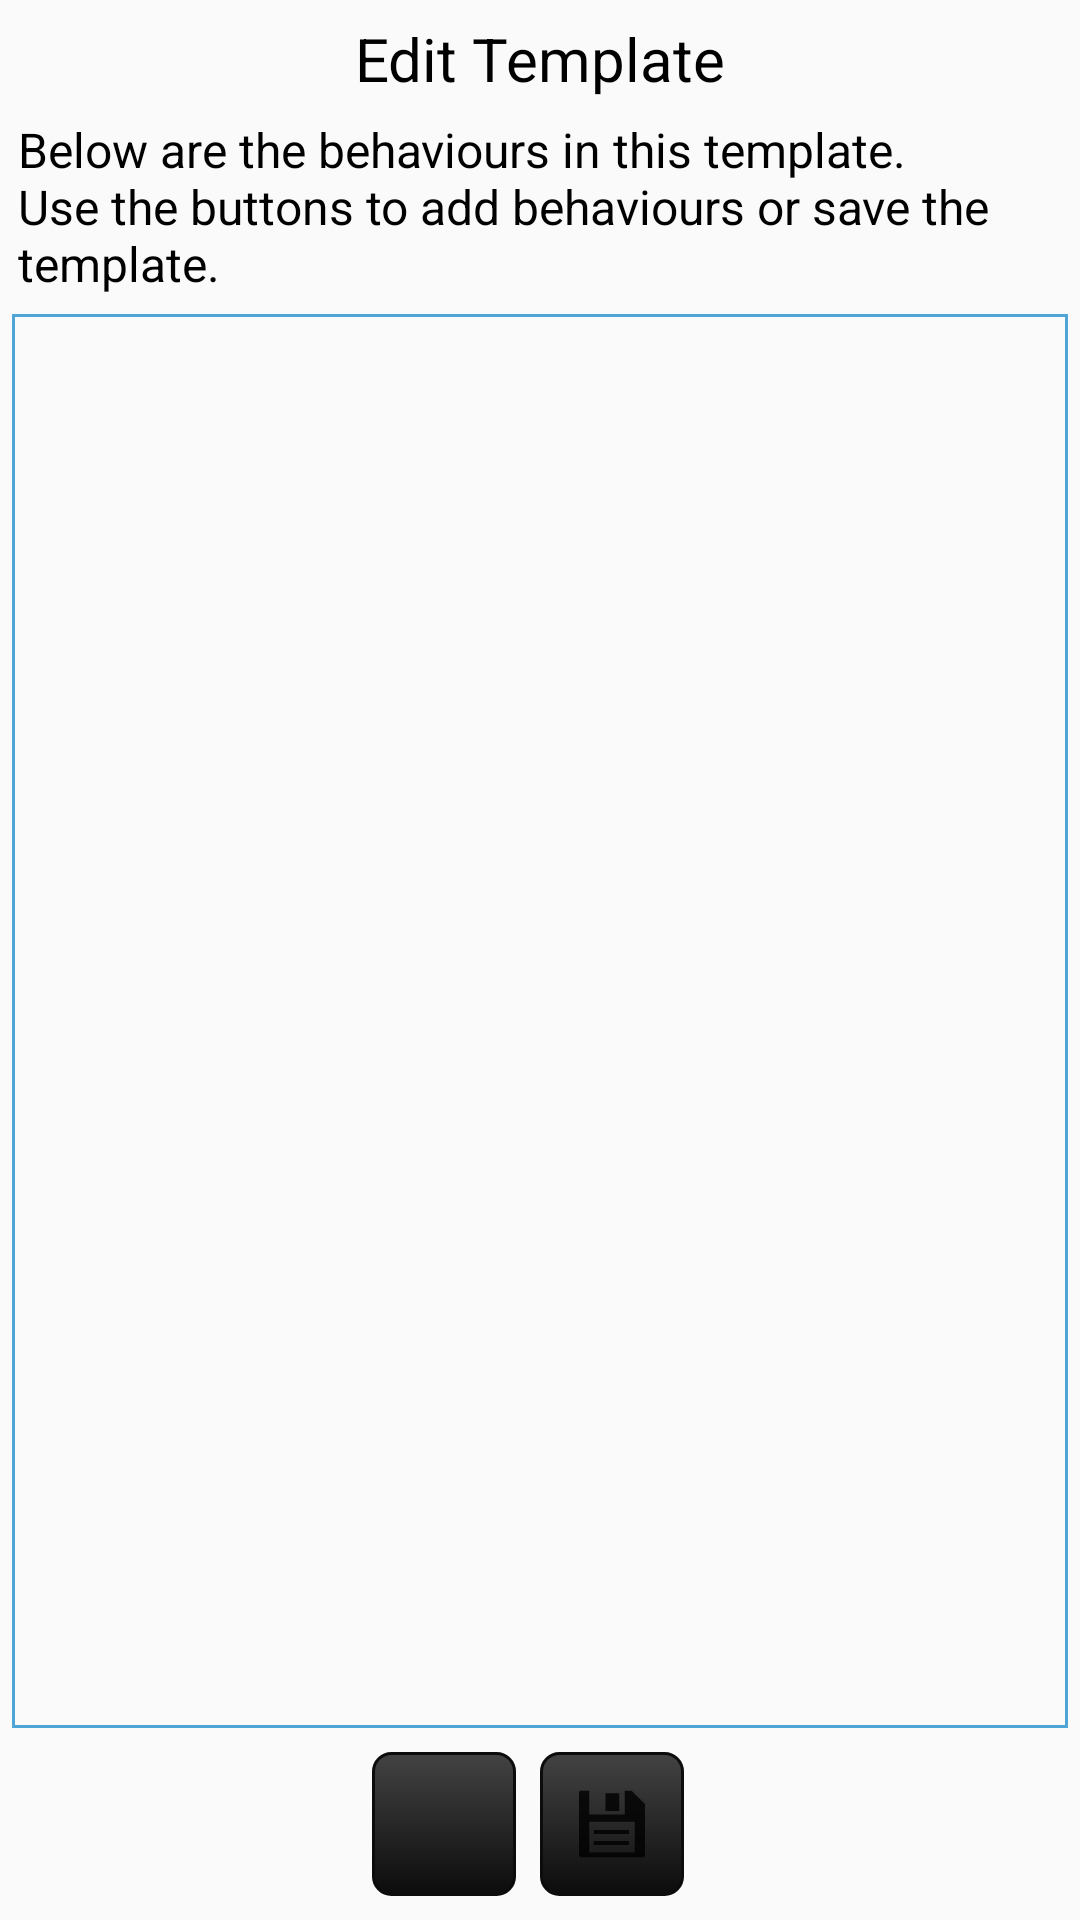

Icons on this 1080px x 1920px Android screen, each with its box as [x1,y1,x2,y2]:
Save template: [540,1752,684,1896]
